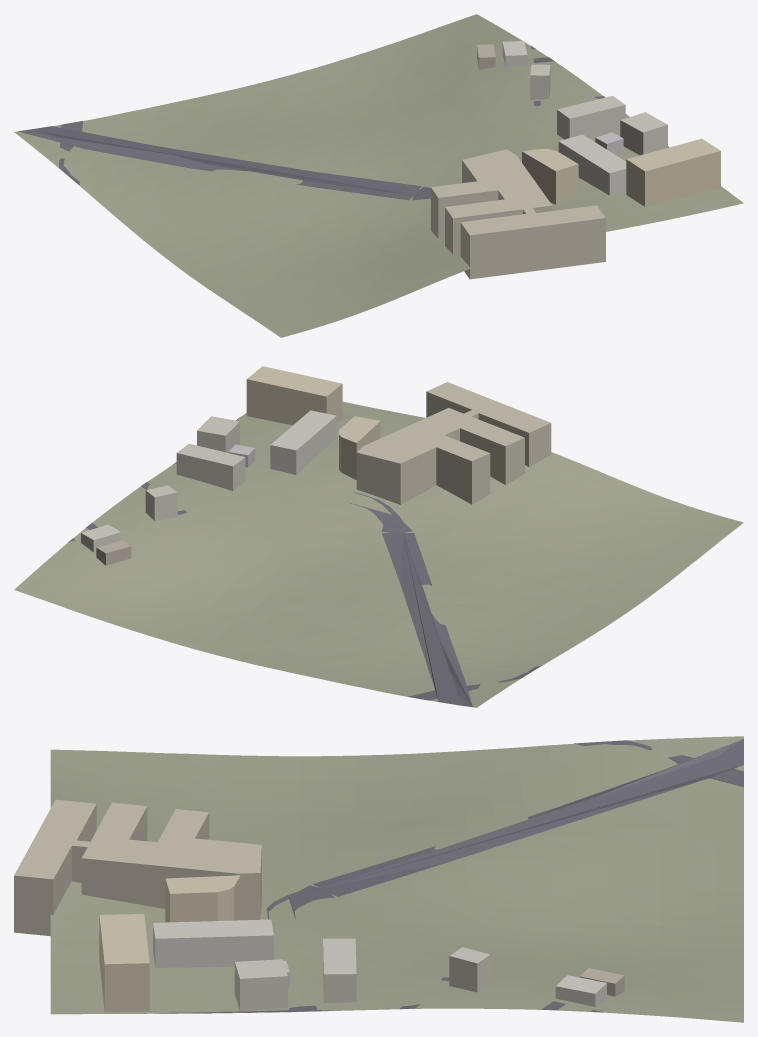
Rendered from chunk_2_7.glb.
3 views of the same model, one above another, from view 1: azimuth 30°, elevation 25°; view 2: azimuth 150°, elevation 25°; view 3: azimuth 270°, elevation 25° (orthographic). The views are drawn at different scales.
Parts seen in each view (by area): view 1: geometry_10, geometry_0, geometry_4, geometry_21, geometry_5, geometry_12, geometry_1, geometry_7, geometry_9, geometry_6, geometry_2; view 2: geometry_10, geometry_0, geometry_4, geometry_21, geometry_5, geometry_7, geometry_12, geometry_1, geometry_9, geometry_6, geometry_2, geometry_3; view 3: geometry_10, geometry_0, geometry_21, geometry_5, geometry_4, geometry_1, geometry_9, geometry_7, geometry_12, geometry_6, geometry_2, geometry_14 (+2 smaller).
Part boxes in pixels (bbox=[...]): geometry_10: bbox=[14, 14, 743, 337]; geometry_0: bbox=[431, 149, 605, 279]; geometry_4: bbox=[626, 138, 720, 206]; geometry_21: bbox=[31, 126, 421, 195]; geometry_5: bbox=[558, 134, 626, 195]; geometry_12: bbox=[18, 128, 412, 200]; geometry_1: bbox=[522, 149, 578, 204]; geometry_7: bbox=[557, 95, 625, 139]; geometry_9: bbox=[620, 112, 667, 155]; geometry_6: bbox=[530, 64, 550, 100]; geometry_2: bbox=[502, 41, 527, 67]; geometry_10: bbox=[14, 401, 743, 707]; geometry_0: bbox=[356, 382, 551, 504]; geometry_4: bbox=[246, 366, 342, 425]; geometry_21: bbox=[382, 532, 460, 704]; geometry_5: bbox=[270, 410, 336, 475]; geometry_7: bbox=[176, 443, 245, 490]; geometry_12: bbox=[403, 532, 472, 706]; geometry_1: bbox=[339, 416, 380, 479]; geometry_9: bbox=[197, 416, 239, 452]; geometry_6: bbox=[145, 485, 177, 521]; geometry_2: bbox=[81, 524, 121, 552]; geometry_3: bbox=[96, 540, 131, 565]; geometry_10: bbox=[50, 736, 743, 1022]; geometry_0: bbox=[14, 799, 261, 936]; geometry_21: bbox=[321, 748, 743, 896]; geometry_5: bbox=[153, 919, 273, 967]; geometry_4: bbox=[99, 914, 149, 1012]; geometry_1: bbox=[165, 875, 240, 922]; geometry_9: bbox=[234, 959, 287, 1010]; geometry_7: bbox=[323, 938, 356, 1002]; geometry_12: bbox=[313, 739, 743, 887]; geometry_6: bbox=[449, 947, 490, 992]; geometry_2: bbox=[555, 975, 606, 1006]; geometry_14: bbox=[574, 740, 743, 787].
Bounding box in the file's own units: 250 × 33.32 × 263.
